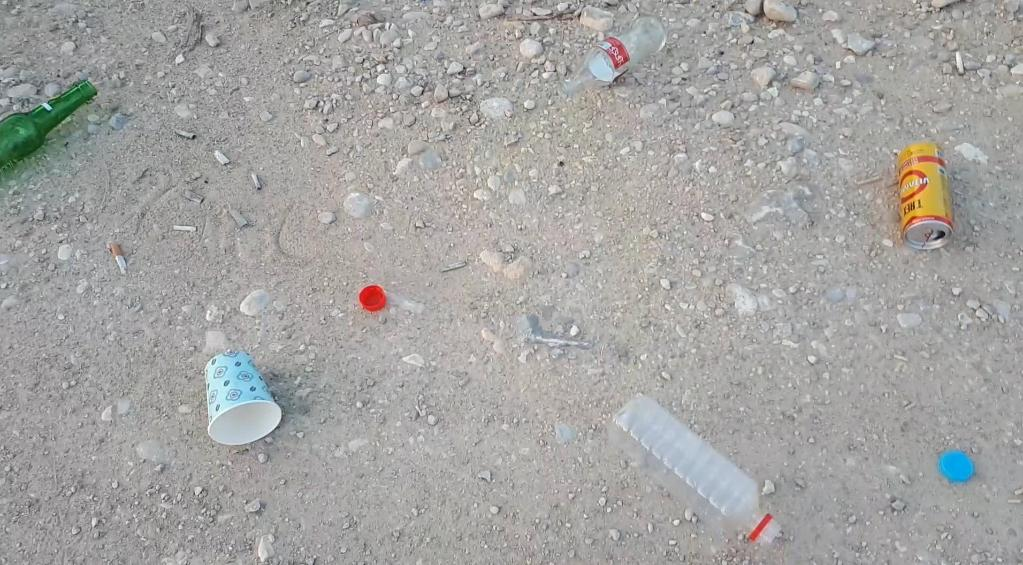garbage: (606, 395, 782, 547), (557, 14, 668, 99), (1, 80, 97, 175), (899, 144, 955, 250)
